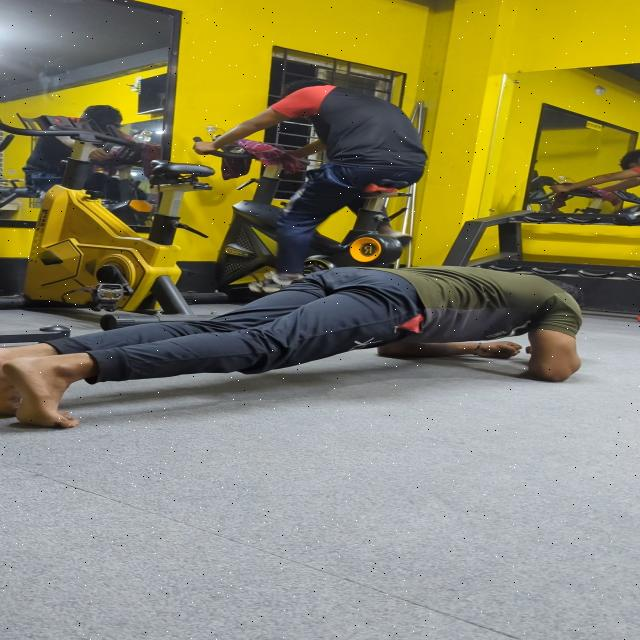Normal_Plunk: (0, 241, 636, 527)
